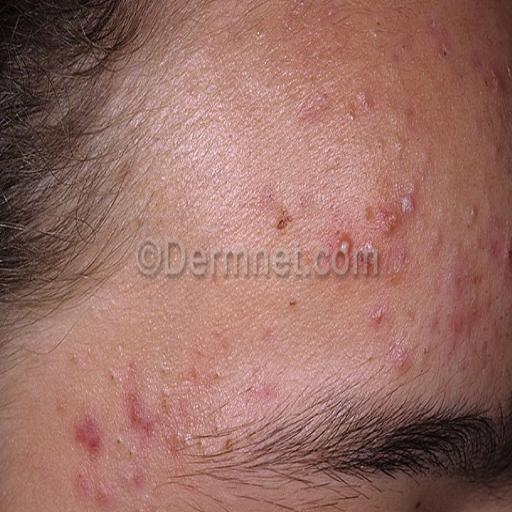Skin_Lesion: (378, 195, 420, 239), (124, 386, 155, 440), (163, 397, 190, 455), (71, 416, 105, 457), (73, 475, 111, 509), (346, 86, 374, 126), (296, 5, 348, 24), (274, 203, 296, 244), (484, 60, 508, 96), (331, 228, 352, 268), (385, 249, 411, 280), (439, 306, 464, 335), (392, 338, 411, 376), (430, 14, 452, 46), (476, 335, 491, 380), (360, 238, 381, 270), (477, 233, 498, 264), (256, 376, 274, 411), (308, 91, 333, 116), (205, 362, 229, 388), (446, 266, 464, 300), (467, 264, 486, 296), (132, 467, 152, 497), (253, 191, 282, 211), (426, 227, 444, 253), (498, 234, 512, 266), (389, 44, 406, 70), (417, 152, 436, 174), (124, 357, 141, 379), (219, 440, 241, 457), (196, 436, 210, 462), (286, 290, 301, 314), (489, 143, 509, 160), (218, 334, 234, 355), (468, 203, 482, 227), (370, 304, 384, 327), (436, 43, 450, 62), (362, 349, 376, 367), (420, 343, 431, 364), (390, 136, 404, 151), (52, 402, 69, 412)
